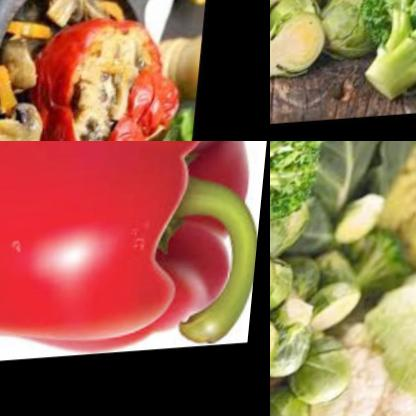bell pepper: (0, 141, 270, 374), (24, 8, 147, 141), (110, 80, 202, 141)
broccoli: (367, 0, 416, 106), (270, 141, 338, 216)
brus capusta: (270, 255, 379, 416), (270, 0, 331, 96), (307, 0, 382, 54), (270, 204, 313, 277)
cayliflower: (306, 268, 416, 416), (380, 141, 416, 287)
